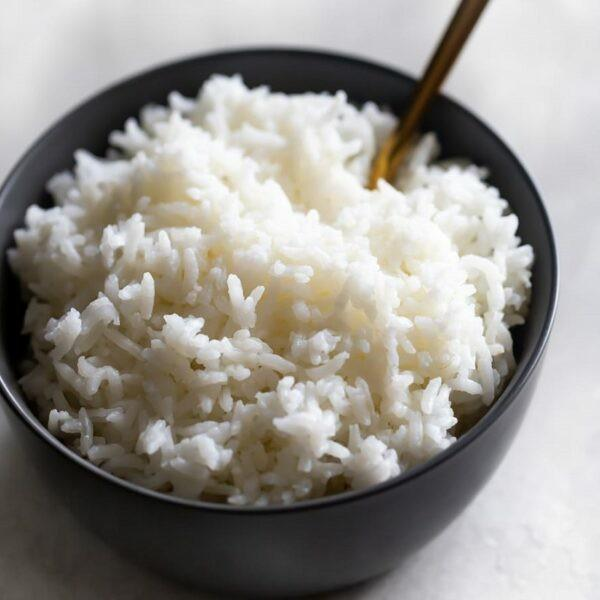WhiteRice: (8, 68, 534, 505)
